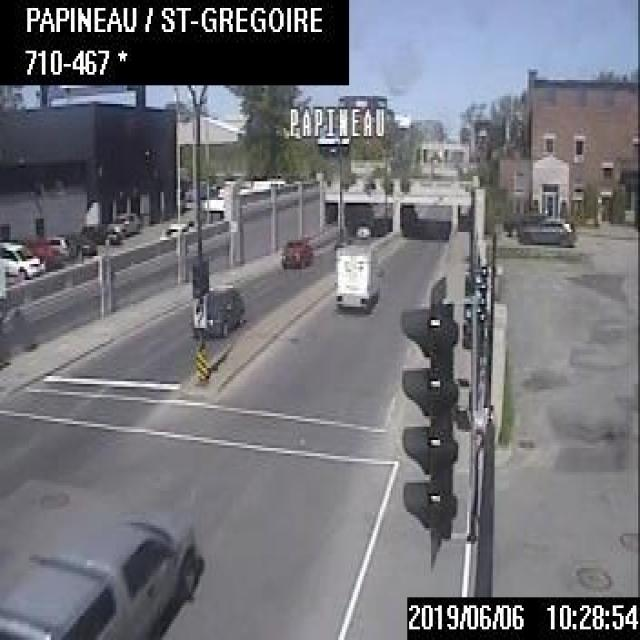vehicle: (0, 504, 200, 637), (331, 238, 376, 310), (189, 286, 242, 334), (518, 214, 575, 247), (0, 240, 44, 277), (502, 206, 541, 234), (106, 208, 139, 238), (28, 242, 61, 269), (280, 235, 309, 264), (79, 223, 119, 244), (45, 231, 74, 259), (68, 232, 94, 257)
